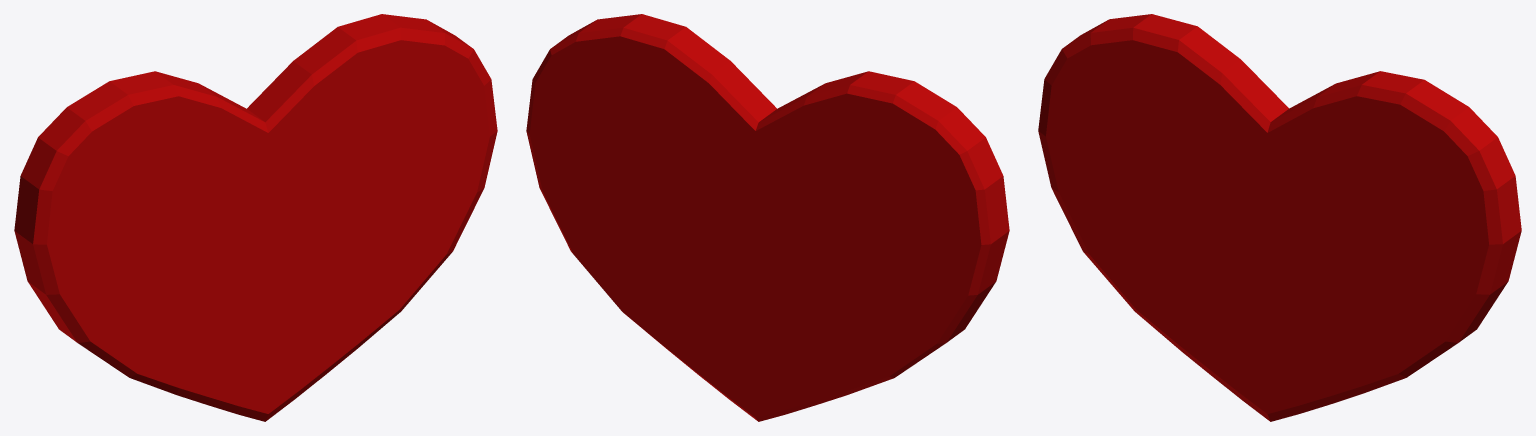
The model's file is heart.01.glb.
3 renders of one model, left to right at view 1: azimuth 30°, elevation 25°; view 2: azimuth 150°, elevation 25°; view 3: azimuth 330°, elevation 25°, orthographic.
Visible parts, largest first — view 1: Plane; view 2: Plane; view 3: Plane.
Boxes of the visible parts, x1=… form: Plane: x1=14, y1=14, x2=497, y2=421; Plane: x1=526, y1=14, x2=1009, y2=421; Plane: x1=1038, y1=14, x2=1521, y2=421.
Size of the model in its own units: 0.3565 by 0.2649 by 0.0331.
Materials: 1 (1 with a texture image).
